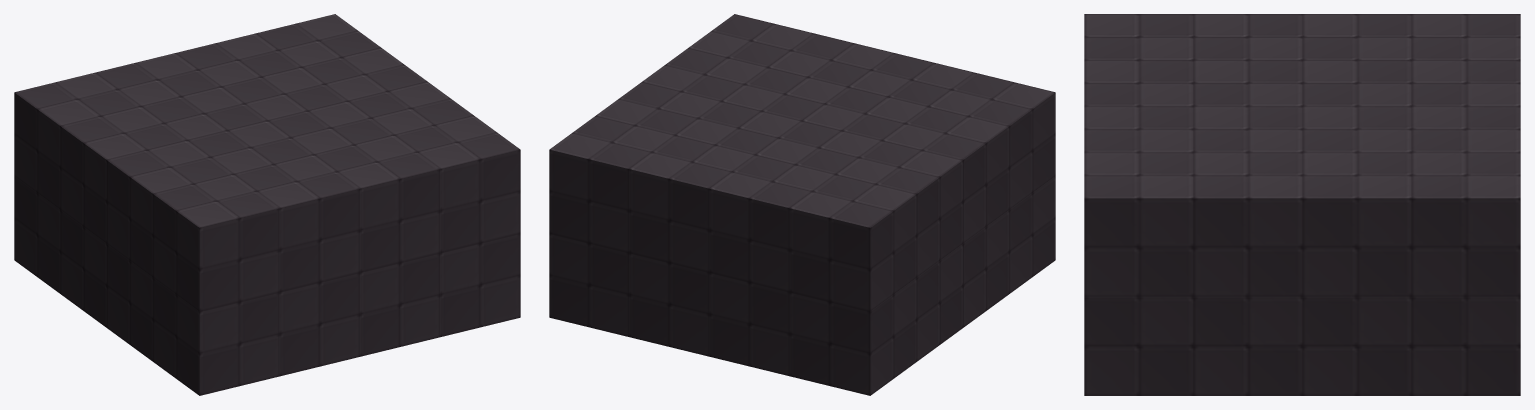
Rendered from ground_block_8x4x8.fbx.
The picture shows the model from 3 angles, left to right: view 1: azimuth 30°, elevation 25°; view 2: azimuth 150°, elevation 25°; view 3: azimuth 270°, elevation 25°; orthographic projection. The views are drawn at different scales.
Visible parts, largest first — view 1: ground_block_8x4x8; view 2: ground_block_8x4x8; view 3: ground_block_8x4x8.
Part boxes in pixels (left/top/right/bottom): ground_block_8x4x8: left=14, top=14, right=520, bottom=395; ground_block_8x4x8: left=549, top=14, right=1055, bottom=395; ground_block_8x4x8: left=1084, top=14, right=1520, bottom=395.
Bounding box in the file's own units: 800 × 400 × 800.
